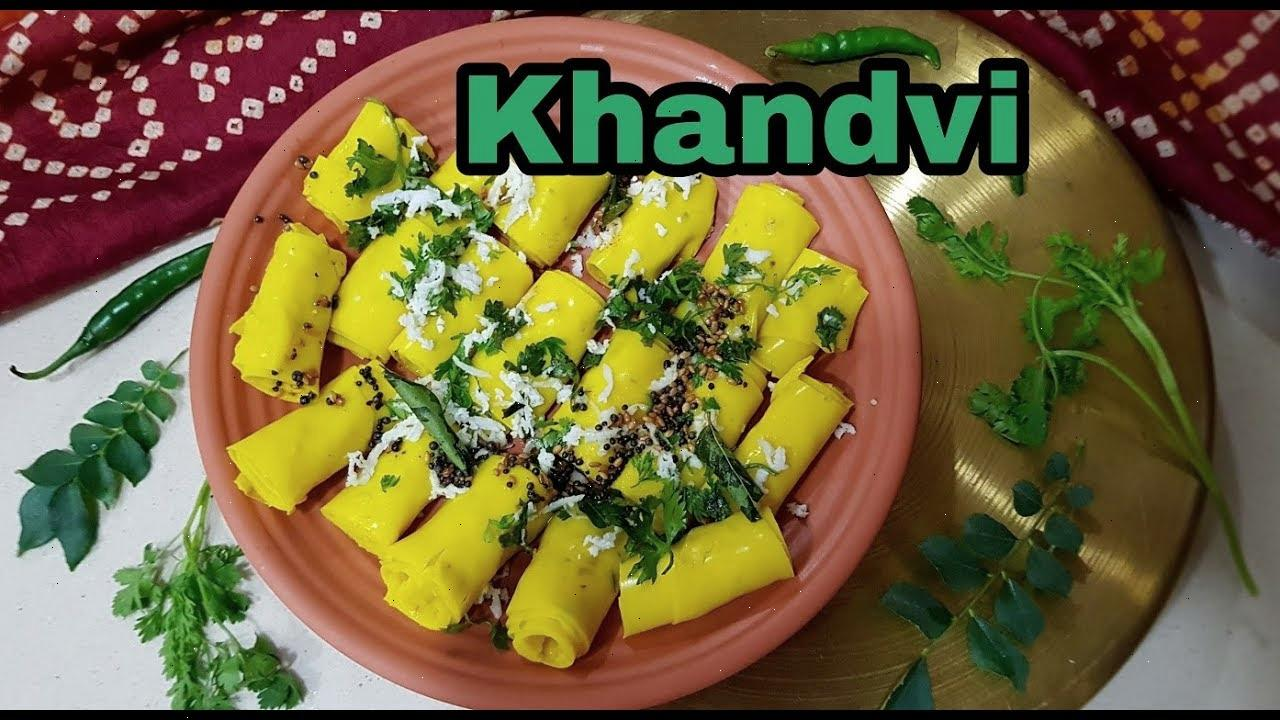khandvi: (290, 188, 864, 568)
